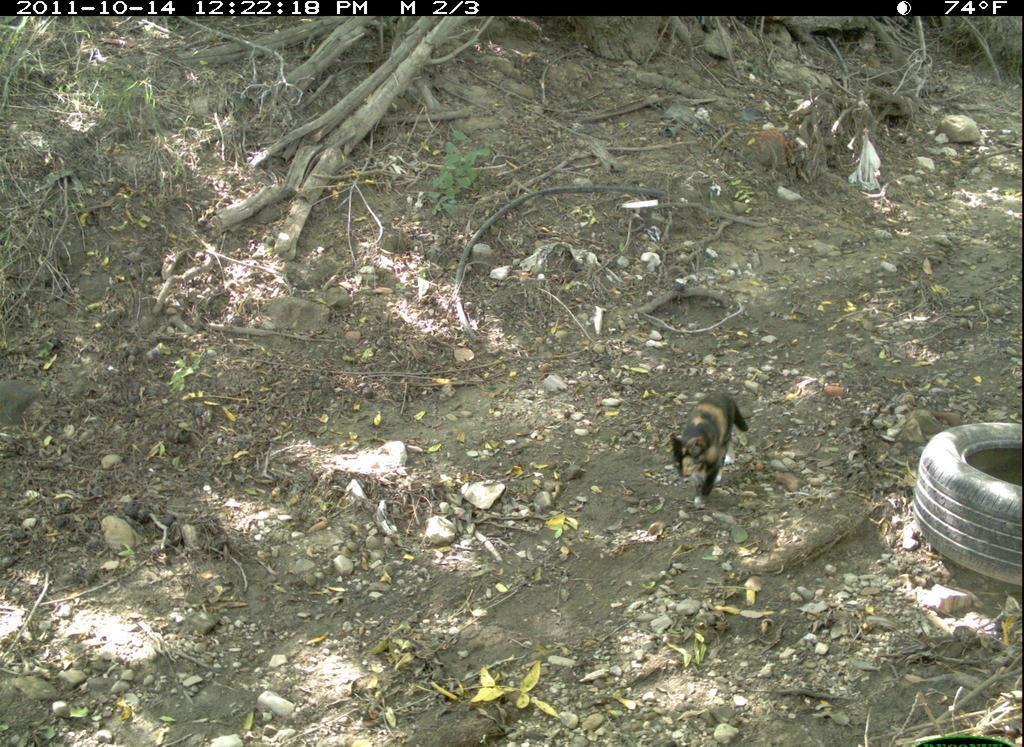cat: (664, 385, 761, 521)
